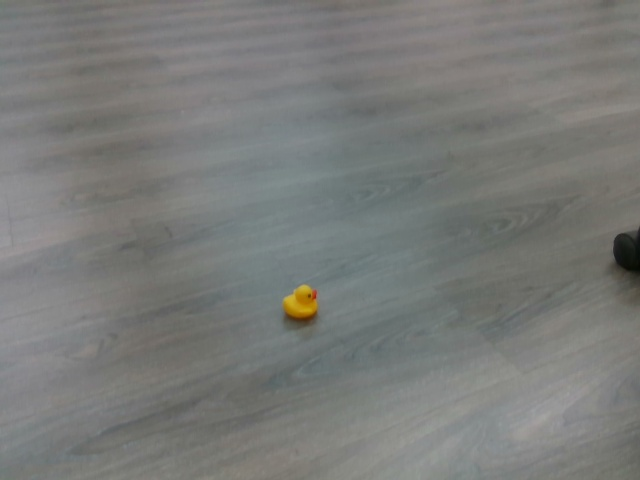duck: (278, 280, 325, 324)
